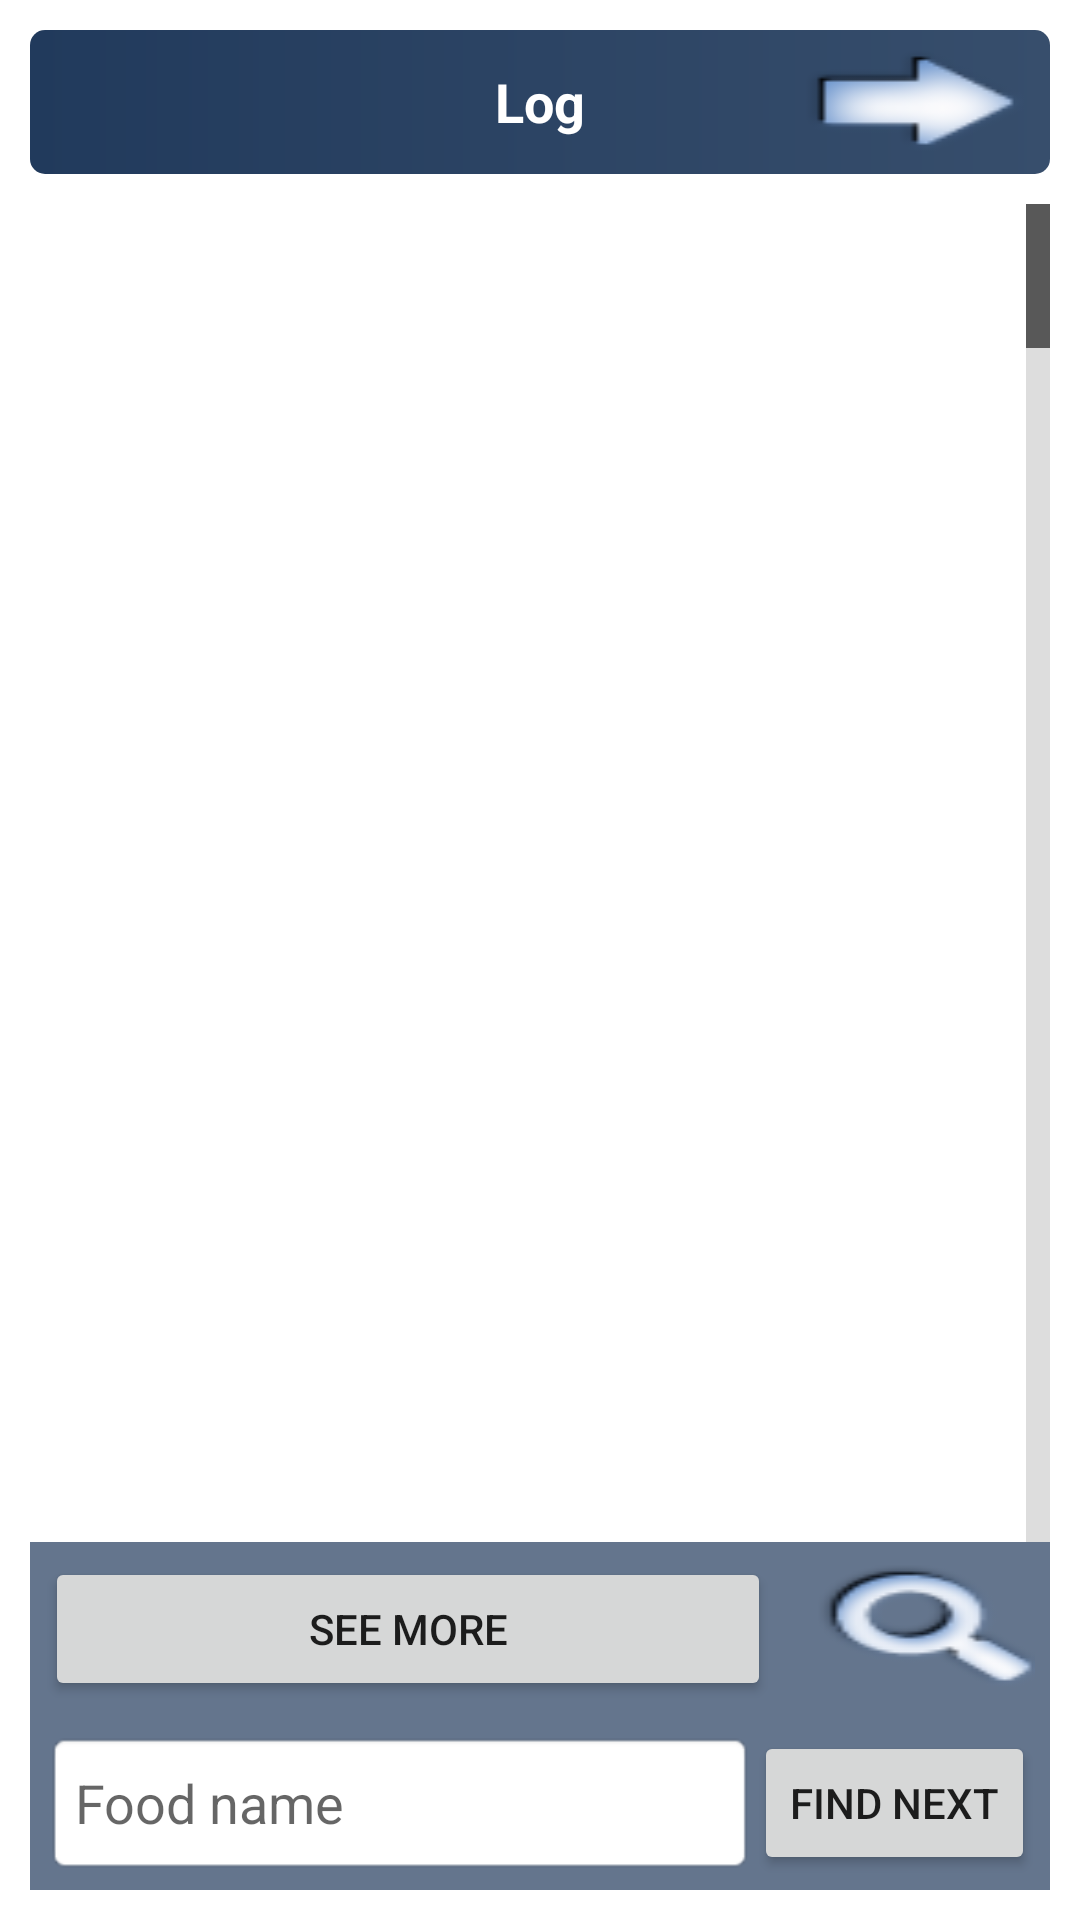

Icons on this 1080 × 1920 Android screen, each with its box as (x1, y1, x2, y2):
search: (829, 1571, 1031, 1681)
